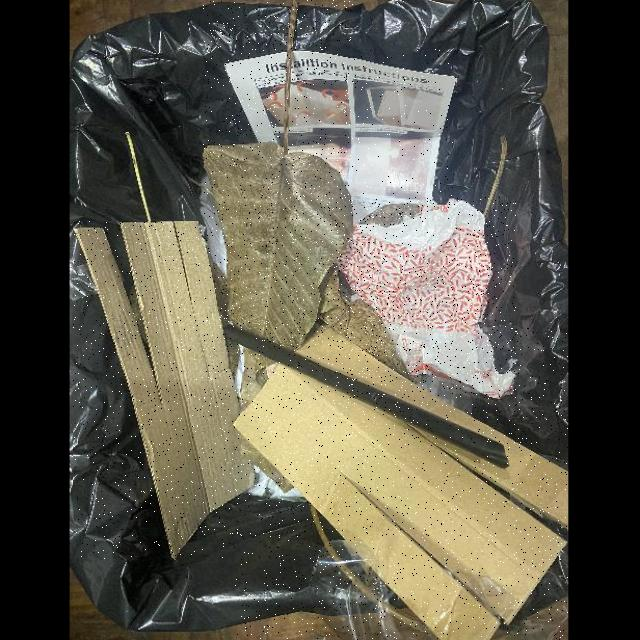biowaste: (203, 0, 353, 411), (318, 263, 425, 385)
paper: (235, 327, 568, 640), (74, 222, 252, 559), (225, 50, 456, 225), (337, 198, 516, 400)
